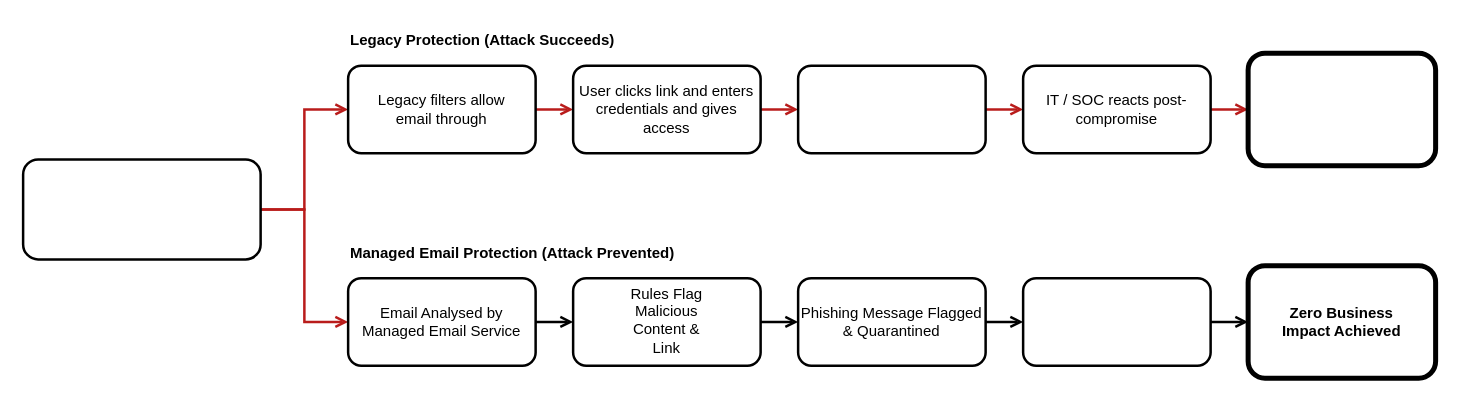
This 1459x401 diagram has some shape labels left out. The box of each missing label's shape, as (x1, y1, x2, y2) in pixels:
Attacker gain file-share access, exfiltrate data, or plant malware.: (796, 64, 986, 154)
Automated Quarantining & Zero-User Mitigation: (1021, 276, 1211, 366)
File-Share Link Phishing Initiated: (21, 158, 261, 260)
Operational and Financial Impact Realized: (1245, 50, 1438, 168)
